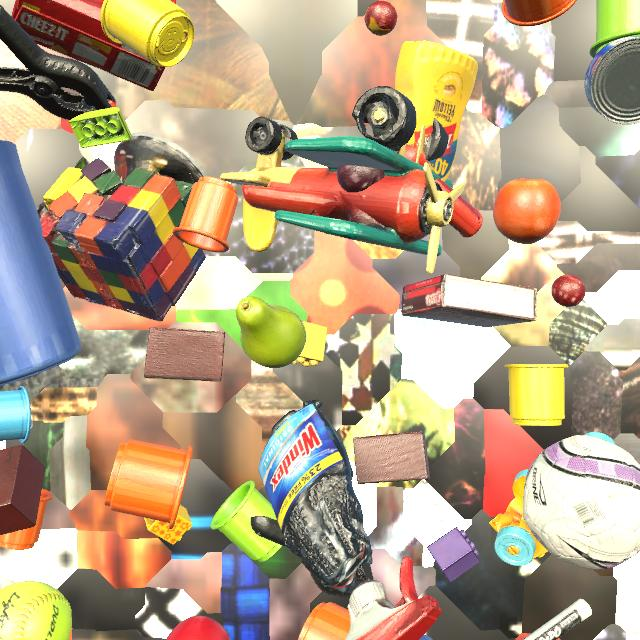ycb_003_cracker_box: (11, 0, 176, 91)
ycb_006_mustard_bottle: (395, 41, 478, 182)
ycb_007_tuna_fish_can: (585, 37, 640, 125)
ycb_008_pudding_box: (401, 274, 538, 328)
ycb_013_apple: (166, 616, 230, 640)
ycb_016_pear: (236, 296, 306, 368)
ycb_017_orange: (493, 179, 561, 244)
ycb_018_plum: (337, 165, 385, 193)
